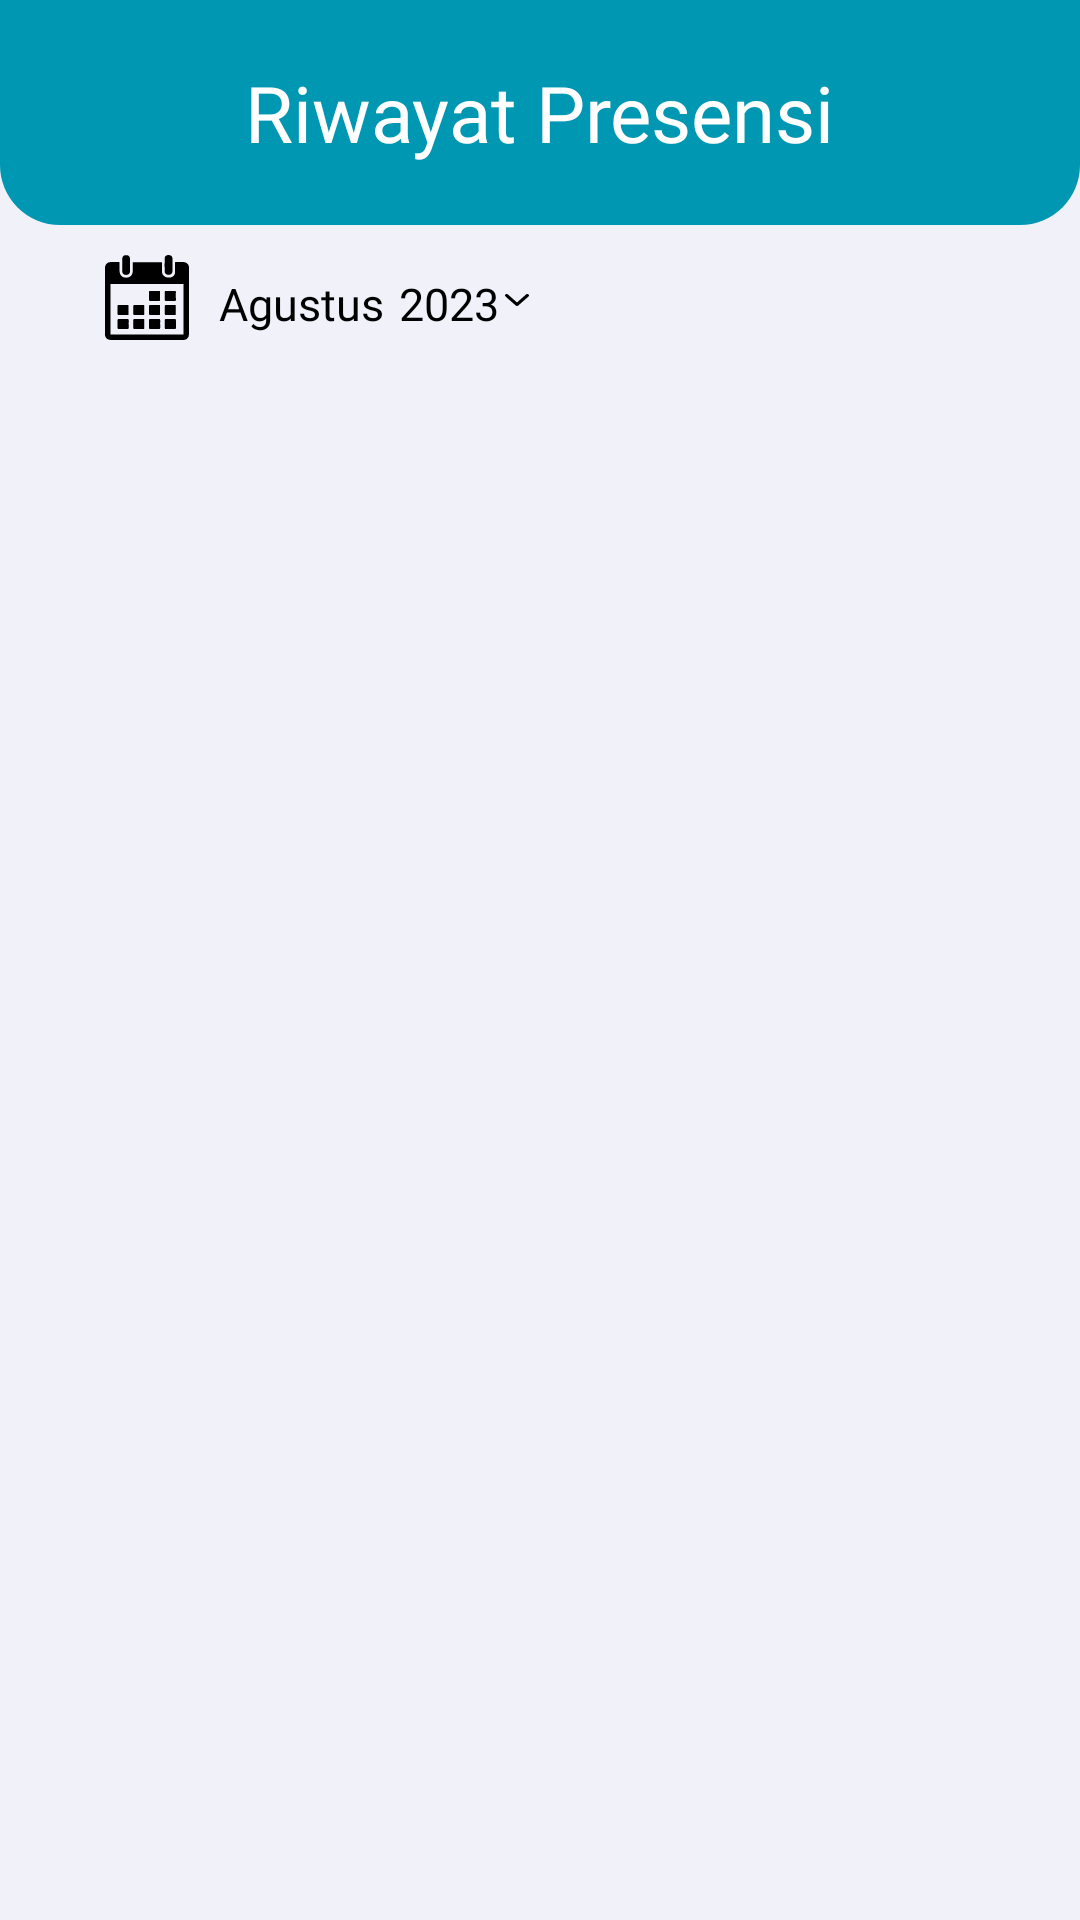

Point at icon controls on the screen. Image size 1080×1920, points as point (x, y).
calendar: point (147, 297)
